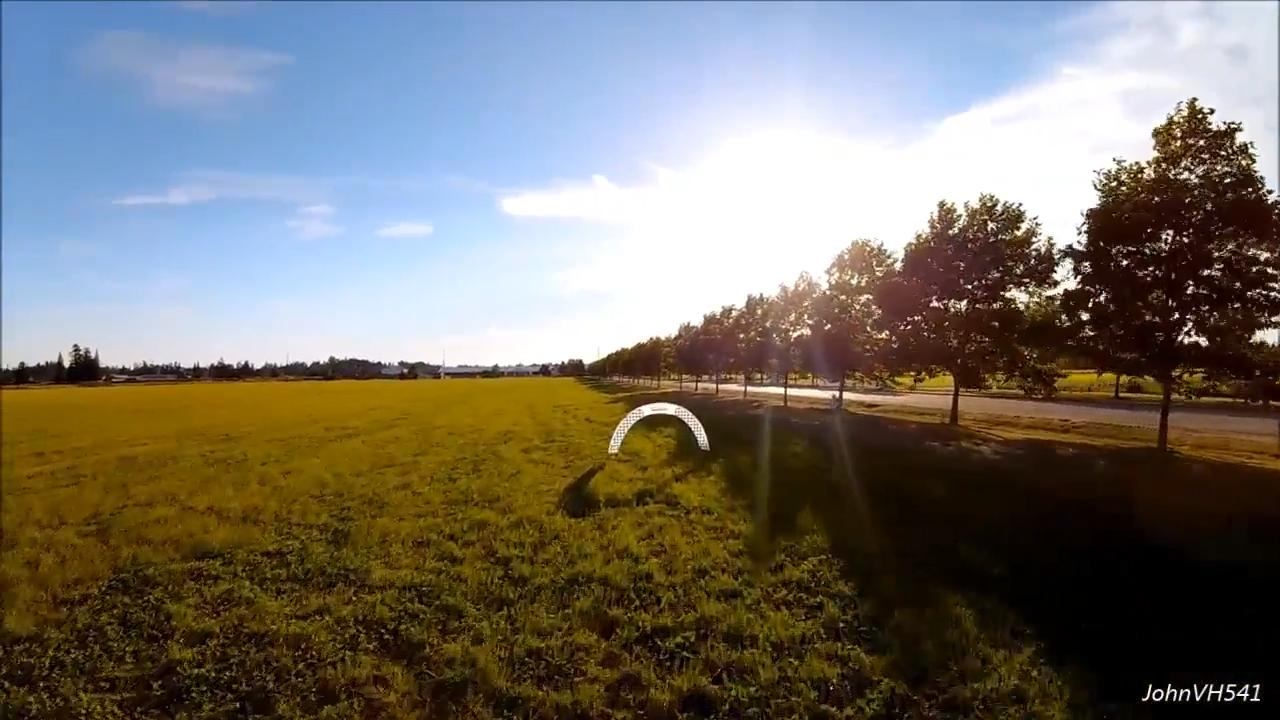gate: (606, 399, 714, 455)
